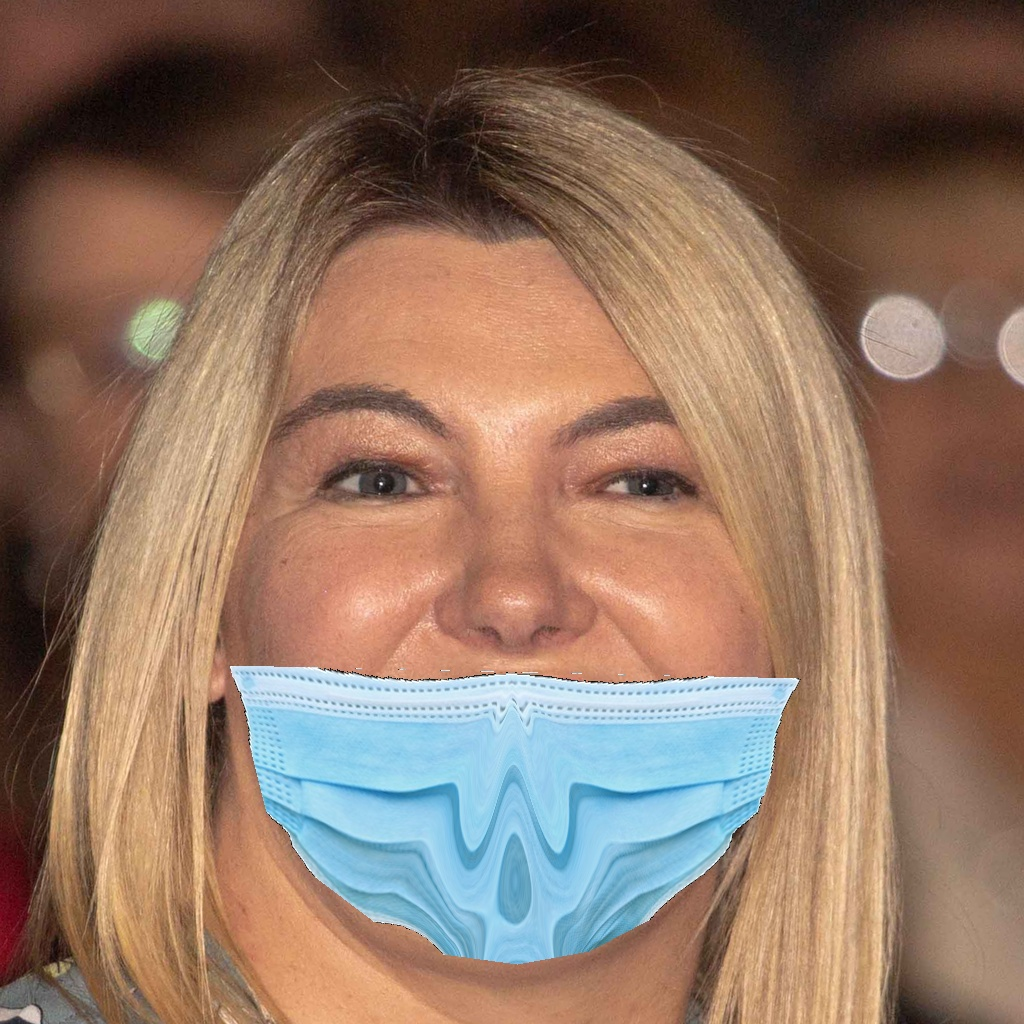mascarilla_mal_puesta: (232, 340, 787, 970)
